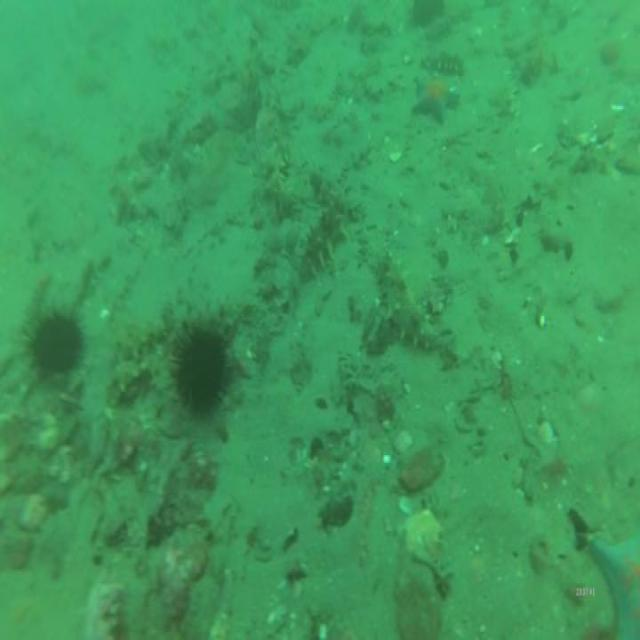echinus: (20, 295, 94, 392), (172, 319, 232, 417)
holothurian: (376, 240, 434, 349), (302, 194, 348, 284), (114, 313, 170, 363), (107, 356, 149, 414)
starfish: (587, 523, 640, 640), (412, 70, 459, 128)
